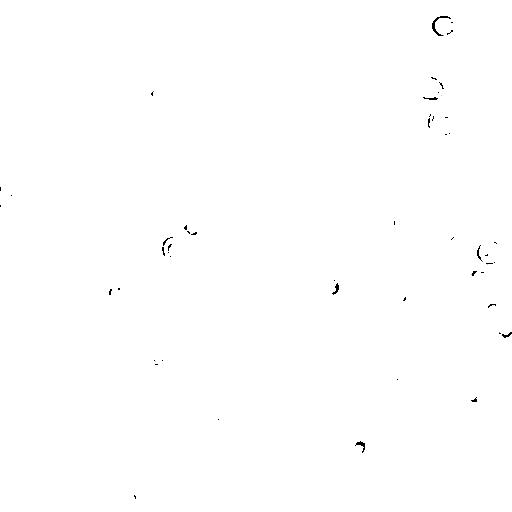micro-algae: (19, 16, 148, 139), (200, 437, 304, 510), (159, 335, 239, 416), (152, 0, 248, 59), (1, 207, 53, 309), (75, 243, 131, 304), (25, 449, 57, 479), (425, 107, 457, 136), (218, 101, 247, 129), (143, 241, 172, 269), (107, 429, 134, 459), (476, 238, 504, 266), (416, 74, 445, 101), (64, 442, 91, 470), (163, 235, 189, 264), (383, 281, 413, 306), (433, 217, 460, 243), (365, 464, 393, 489), (14, 410, 41, 435), (81, 279, 109, 303), (248, 414, 273, 439), (466, 267, 491, 291), (147, 78, 170, 103), (261, 19, 285, 42), (308, 499, 353, 511), (431, 15, 456, 36), (193, 105, 213, 126), (80, 257, 100, 277), (320, 275, 339, 296), (397, 370, 414, 392), (165, 0, 193, 13), (214, 403, 232, 423), (351, 439, 369, 457), (122, 487, 138, 507), (501, 354, 512, 382), (465, 385, 482, 403), (1, 185, 15, 206), (324, 434, 341, 451), (185, 218, 201, 236), (177, 289, 194, 305), (54, 103, 71, 118), (393, 213, 407, 231), (386, 0, 404, 13), (413, 215, 426, 233), (151, 350, 166, 365), (109, 285, 123, 301), (486, 301, 499, 316), (499, 323, 511, 337)
